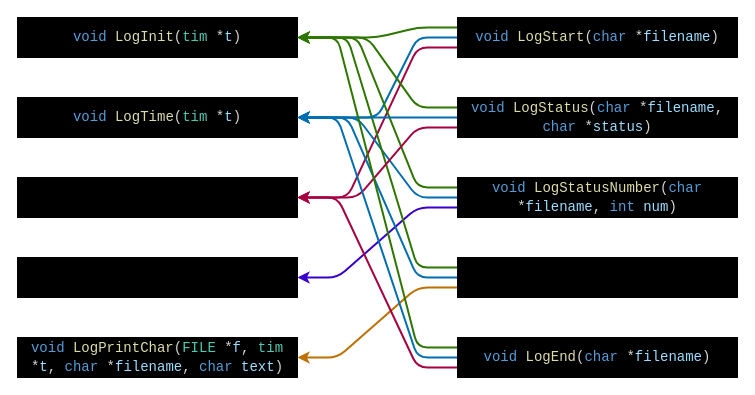
Image size: 755x395. Some labels were removed from this diagram. The centre of each missing label's shape, as x and y in pixels:
void LogPrint ( FILE * f , tim * t , char * filename , char * text ): [157,197]
void LogPrintNum ( FILE * f , tim * t , char * filename , int num ): [157,277]
void LogStatusChar ( char * filename , char status ): [597,277]
